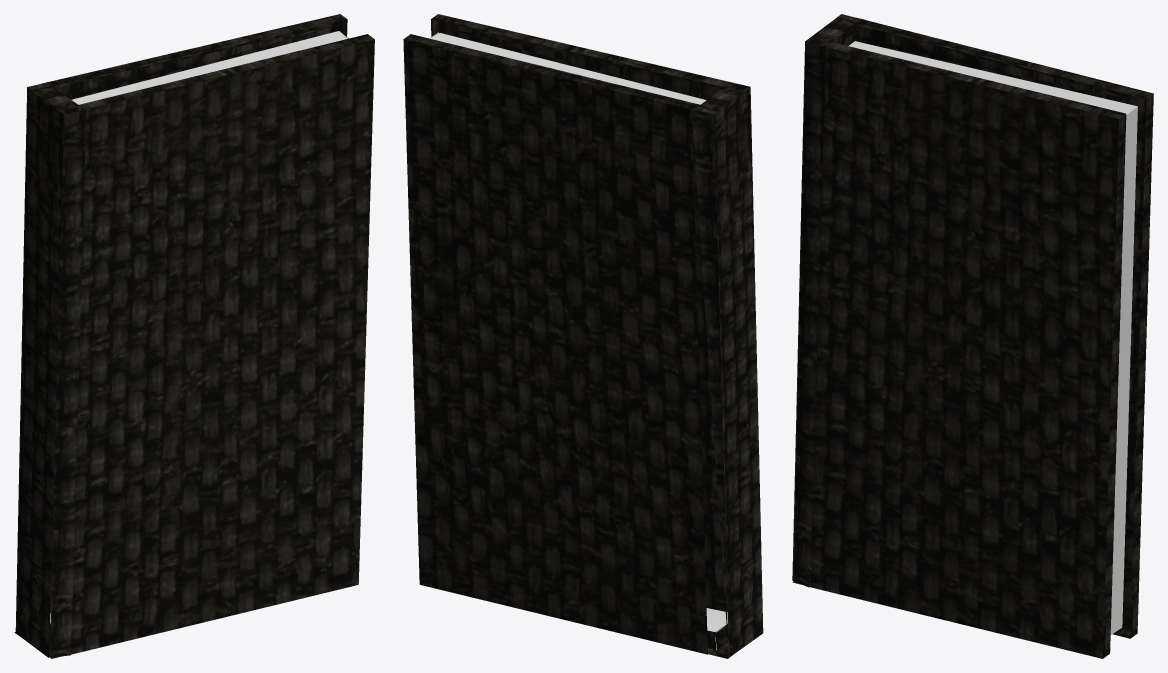
The model's file is Book2.fbx.
3 views of the same model, side by side, from view 1: azimuth 30°, elevation 25°; view 2: azimuth 150°, elevation 25°; view 3: azimuth 330°, elevation 25° (orthographic).
Parts seen in each view (by area): view 1: Book3; view 2: Book3; view 3: Book3.
Boxes of the visible parts, x1,y1,x2,y2 form: Book3: [14, 14, 374, 658]; Book3: [403, 14, 763, 658]; Book3: [792, 14, 1153, 658].
Size of the model in its own units: 19.66 by 31.35 by 4.02.
2 materials, 1 textured.
